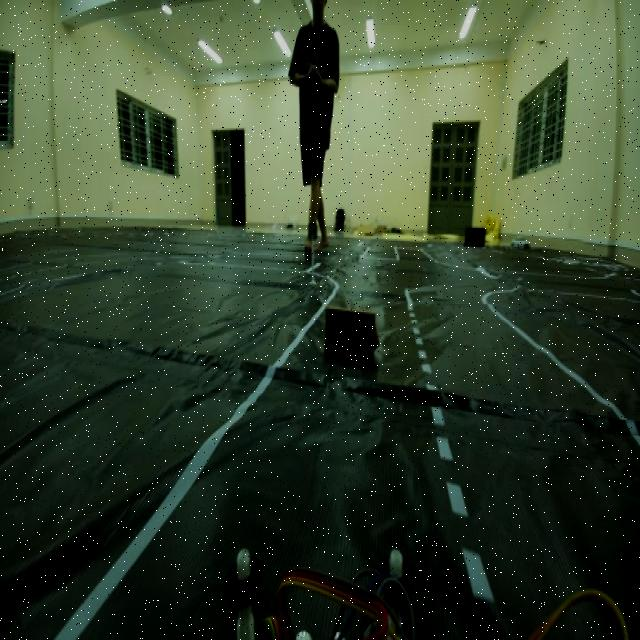roadblock: (319, 295, 385, 378)
